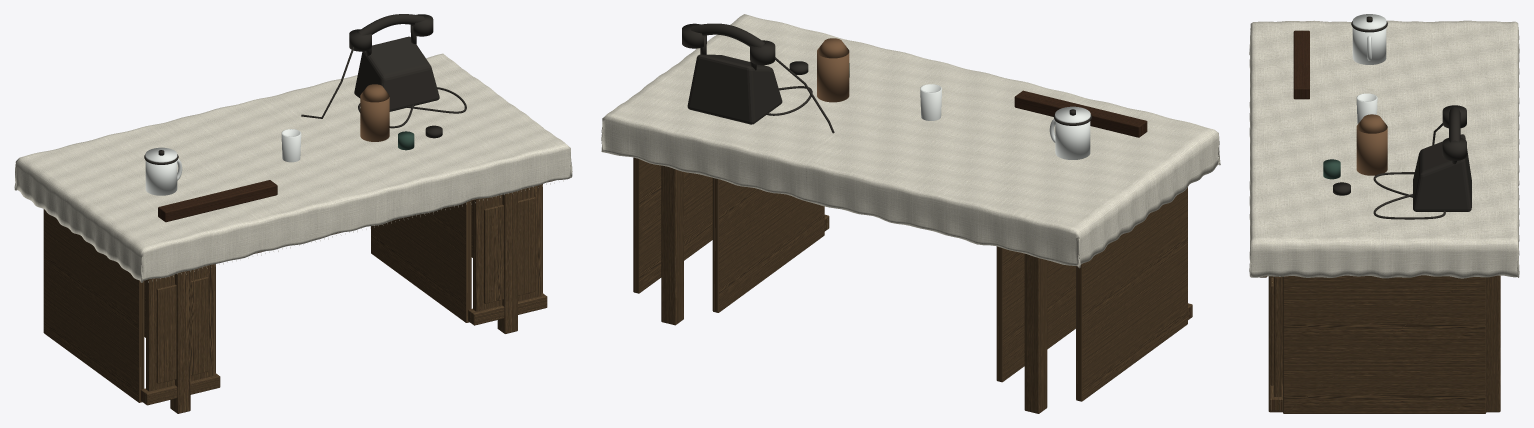
File: inspect_desk.glb
The picture shows the model from 3 angles, left to right: view 1: azimuth 30°, elevation 25°; view 2: azimuth 150°, elevation 25°; view 3: azimuth 270°, elevation 25°; orthographic projection. The views are drawn at different scales.
Visible parts, largest first — view 1: office_desk_photo_desk_ivory_linen, office_desk_review_20261020_desk_natural_timber, office_desk_black_bakelite, office_desk_white_enamel, office_desk_cinema_bed_walnut, office_desk_photo_brown_glazed_jar; view 2: office_desk_photo_desk_ivory_linen, office_desk_review_20261020_desk_natural_timber, office_desk_black_bakelite, office_desk_white_enamel, office_desk_cinema_bed_walnut, office_desk_photo_brown_glazed_jar; view 3: office_desk_photo_desk_ivory_linen, office_desk_review_20261020_desk_natural_timber, office_desk_black_bakelite, office_desk_white_enamel, office_desk_photo_brown_glazed_jar, office_desk_cinema_bed_walnut, office_desk_photo_small_green_container.
Boxes of the visible parts, box(x1,y1,x2,y2) form: office_desk_photo_desk_ivory_linen: box(14, 53, 572, 282); office_desk_review_20261020_desk_natural_timber: box(43, 180, 555, 413); office_desk_black_bakelite: box(144, 14, 466, 164); office_desk_white_enamel: box(145, 129, 301, 195); office_desk_cinema_bed_walnut: box(158, 180, 277, 222); office_desk_photo_brown_glazed_jar: box(360, 84, 389, 141); office_desk_photo_desk_ivory_linen: box(601, 14, 1220, 268); office_desk_review_20261020_desk_natural_timber: box(633, 157, 1192, 413); office_desk_black_bakelite: box(682, 23, 1091, 133); office_desk_white_enamel: box(920, 84, 1090, 159); office_desk_cinema_bed_walnut: box(1014, 90, 1147, 137); office_desk_photo_brown_glazed_jar: box(817, 38, 849, 102); office_desk_photo_desk_ivory_linen: box(1249, 20, 1519, 278); office_desk_review_20261020_desk_natural_timber: box(1260, 275, 1500, 413); office_desk_black_bakelite: box(1333, 16, 1471, 219); office_desk_white_enamel: box(1352, 14, 1386, 124); office_desk_photo_brown_glazed_jar: box(1356, 114, 1387, 175); office_desk_cinema_bed_walnut: box(1293, 30, 1309, 99); office_desk_photo_small_green_container: box(1323, 159, 1340, 179).
Size of the model in its own units: 2.11 by 1.22 by 1.08.
8 materials, 3 textured.
